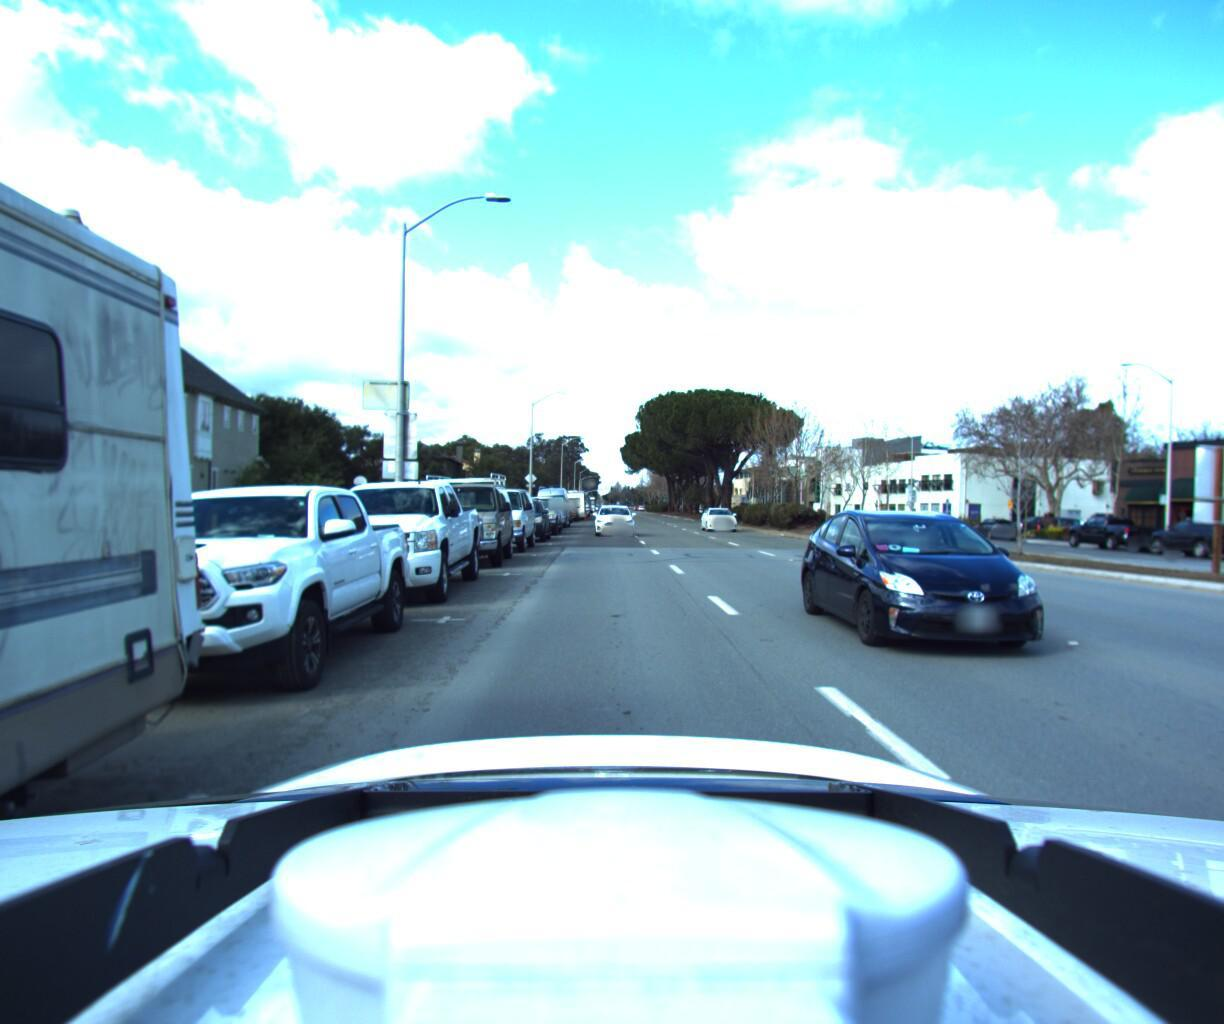car: (5, 471, 414, 726), (817, 505, 1174, 697), (288, 471, 478, 618), (410, 478, 512, 575), (457, 485, 533, 557), (1059, 513, 1163, 551), (1138, 515, 1224, 560), (493, 496, 549, 546), (511, 494, 561, 537), (523, 482, 568, 527), (960, 514, 1024, 540), (591, 502, 634, 537), (702, 506, 744, 533), (835, 507, 869, 525)
other_vehicle: (554, 488, 589, 520)
